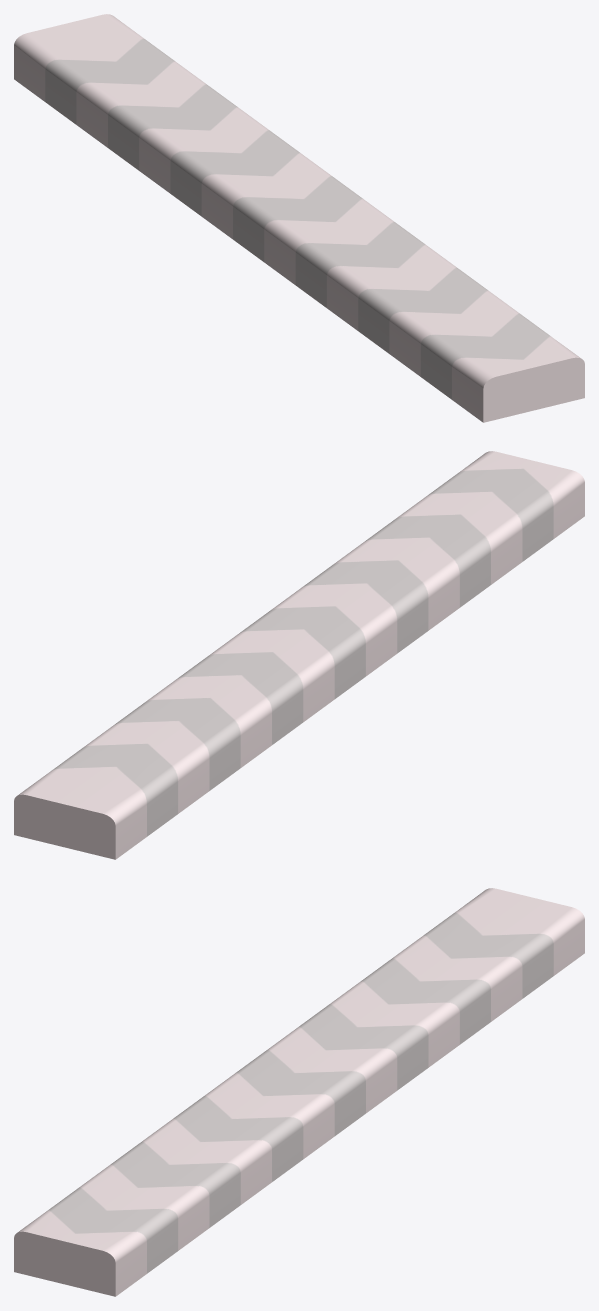
Rendered from yol (1).fbx.
3 renders of one model, top to bottom at view 1: azimuth 30°, elevation 25°; view 2: azimuth 150°, elevation 25°; view 3: azimuth 330°, elevation 25°, orthographic.
Visible parts, largest first — view 1: pCube1; view 2: pCube1; view 3: pCube1.
Part boxes in pixels (x1,y1,x2,y2): pCube1: [14, 14, 584, 422]; pCube1: [14, 451, 584, 859]; pCube1: [14, 888, 584, 1296].
Size of the model in its own units: 375 by 152 by 3000.
